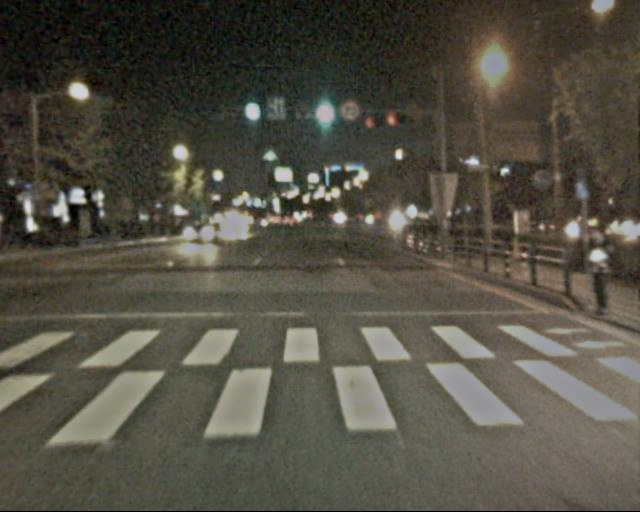person: (572, 228, 617, 318)
